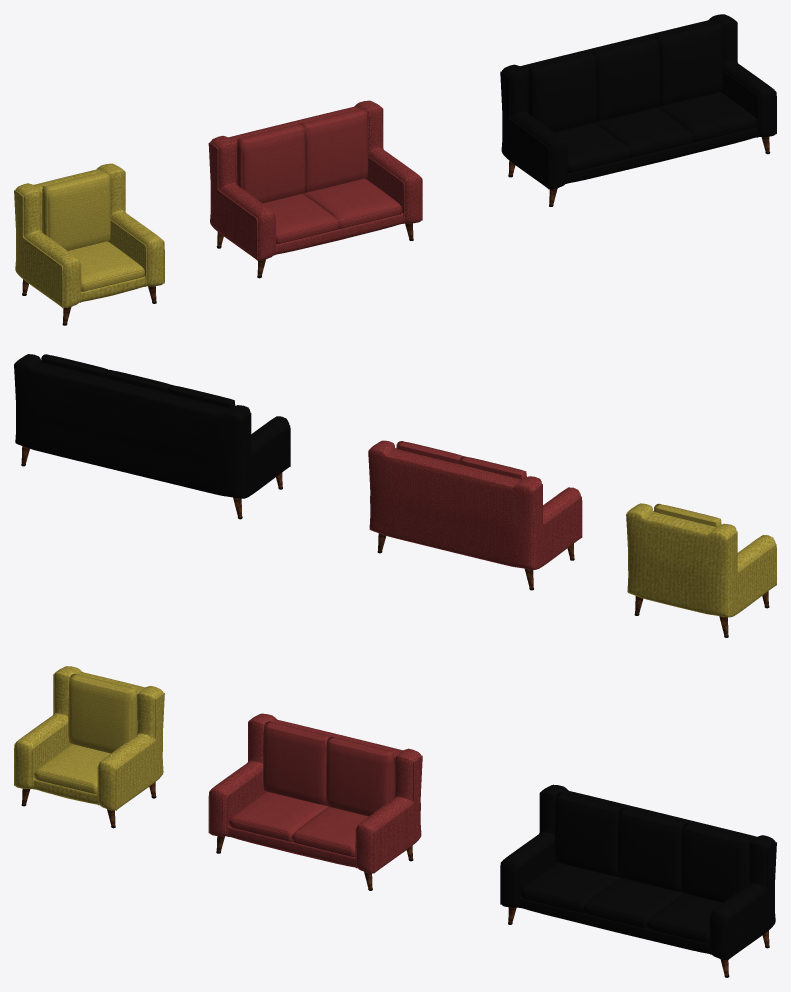
File: Sofa_Variety.obj
3 views of the same model, one above another, from view 1: azimuth 30°, elevation 25°; view 2: azimuth 150°, elevation 25°; view 3: azimuth 330°, elevation 25° (orthographic).
Visible parts, largest first — view 1: General_Sofa_Variety Complete_Scene Entire_Scene Triple_Seat Tri, General_Sofa_Variety Complete_Scene Entire_Scene Sofa_Body_3_sea, General_Sofa_Variety Complete_Scene Entire_Scene Sofa_Body_2_sea, Sofa_Body General_Sofa_Variety Complete_Scene Entire_Scene, General_Sofa_Variety Complete_Scene Entire_Scene Sofa_Cushion_2, General_Sofa_Variety Complete_Scene Entire_Scene Sofa_Cushion_10, General_Sofa_Variety Complete_Scene Entire_Scene Sofa_Cushion_4, General_Sofa_Variety Complete_Scene Entire_Scene Sofa_Cushion_3, General_Sofa_Variety Complete_Scene Entire_Scene Sofa_Cushion_1, General_Sofa_Variety Complete_Scene Entire_Scene Sofa_Cushion_9; view 2: General_Sofa_Variety Complete_Scene Entire_Scene Sofa_Body_3_sea, General_Sofa_Variety Complete_Scene Entire_Scene Sofa_Body_2_sea, Sofa_Body General_Sofa_Variety Complete_Scene Entire_Scene, General_Sofa_Variety Complete_Scene Entire_Scene Triple_Seat Tri, General_Sofa_Variety Complete_Scene Entire_Scene Sofa_Cushion_2, General_Sofa_Variety Complete_Scene Entire_Scene Sofa_Cushion_10, General_Sofa_Variety Complete_Scene Entire_Scene Sofa_Cushion_4; view 3: General_Sofa_Variety Complete_Scene Entire_Scene Triple_Seat Tri, General_Sofa_Variety Complete_Scene Entire_Scene Sofa_Body_3_sea, General_Sofa_Variety Complete_Scene Entire_Scene Sofa_Body_2_sea, Sofa_Body General_Sofa_Variety Complete_Scene Entire_Scene, General_Sofa_Variety Complete_Scene Entire_Scene Sofa_Cushion_4, General_Sofa_Variety Complete_Scene Entire_Scene Sofa_Cushion_2, General_Sofa_Variety Complete_Scene Entire_Scene Sofa_Cushion_10, General_Sofa_Variety Complete_Scene Entire_Scene Sofa_Cushion_9, General_Sofa_Variety Complete_Scene Entire_Scene Sofa_Cushion_3, General_Sofa_Variety Complete_Scene Entire_Scene Sofa_Cushion_1.
Part boxes in pixels (box(x1,y1,x2,y2)): General_Sofa_Variety Complete_Scene Entire_Scene Triple_Seat Tri: box(508, 21, 770, 206); General_Sofa_Variety Complete_Scene Entire_Scene Sofa_Body_3_sea: box(500, 14, 776, 189); General_Sofa_Variety Complete_Scene Entire_Scene Sofa_Body_2_sea: box(208, 100, 422, 260); Sofa_Body General_Sofa_Variety Complete_Scene Entire_Scene: box(14, 163, 164, 308); General_Sofa_Variety Complete_Scene Entire_Scene Sofa_Cushion_2: box(42, 171, 110, 250); General_Sofa_Variety Complete_Scene Entire_Scene Sofa_Cushion_10: box(236, 123, 305, 203); General_Sofa_Variety Complete_Scene Entire_Scene Sofa_Cushion_4: box(300, 108, 368, 192); General_Sofa_Variety Complete_Scene Entire_Scene Sofa_Cushion_3: box(302, 178, 402, 229); General_Sofa_Variety Complete_Scene Entire_Scene Sofa_Cushion_1: box(68, 241, 144, 292); General_Sofa_Variety Complete_Scene Entire_Scene Sofa_Cushion_9: box(263, 193, 339, 244); General_Sofa_Variety Complete_Scene Entire_Scene Sofa_Body_3_sea: box(14, 354, 290, 498); General_Sofa_Variety Complete_Scene Entire_Scene Sofa_Body_2_sea: box(368, 440, 582, 569); Sofa_Body General_Sofa_Variety Complete_Scene Entire_Scene: box(626, 503, 776, 617); General_Sofa_Variety Complete_Scene Entire_Scene Triple_Seat Tri: box(21, 354, 282, 519); General_Sofa_Variety Complete_Scene Entire_Scene Sofa_Cushion_2: box(653, 503, 721, 526); General_Sofa_Variety Complete_Scene Entire_Scene Sofa_Cushion_10: box(459, 456, 526, 479); General_Sofa_Variety Complete_Scene Entire_Scene Sofa_Cushion_4: box(396, 441, 463, 463); General_Sofa_Variety Complete_Scene Entire_Scene Triple_Seat Tri: box(508, 792, 769, 977); General_Sofa_Variety Complete_Scene Entire_Scene Sofa_Body_3_sea: box(500, 784, 776, 959); General_Sofa_Variety Complete_Scene Entire_Scene Sofa_Body_2_sea: box(208, 713, 422, 873); Sofa_Body General_Sofa_Variety Complete_Scene Entire_Scene: box(14, 666, 164, 810); General_Sofa_Variety Complete_Scene Entire_Scene Sofa_Cushion_4: box(326, 736, 394, 816); General_Sofa_Variety Complete_Scene Entire_Scene Sofa_Cushion_2: box(68, 674, 137, 753); General_Sofa_Variety Complete_Scene Entire_Scene Sofa_Cushion_10: box(263, 721, 331, 805); General_Sofa_Variety Complete_Scene Entire_Scene Sofa_Cushion_9: box(229, 791, 328, 842); General_Sofa_Variety Complete_Scene Entire_Scene Sofa_Cushion_3: box(291, 806, 368, 857); General_Sofa_Variety Complete_Scene Entire_Scene Sofa_Cushion_1: box(34, 744, 110, 794).
Size of the model in its own units: 1043 by 152 by 134.
